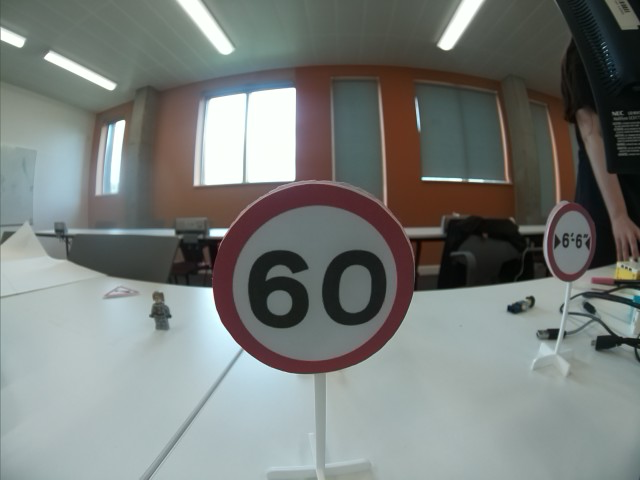60mph: (211, 177, 417, 375)
6ft6: (542, 202, 597, 280)
Lego Man: (149, 290, 175, 331), (506, 293, 538, 315)
Warning: (106, 284, 141, 299)
